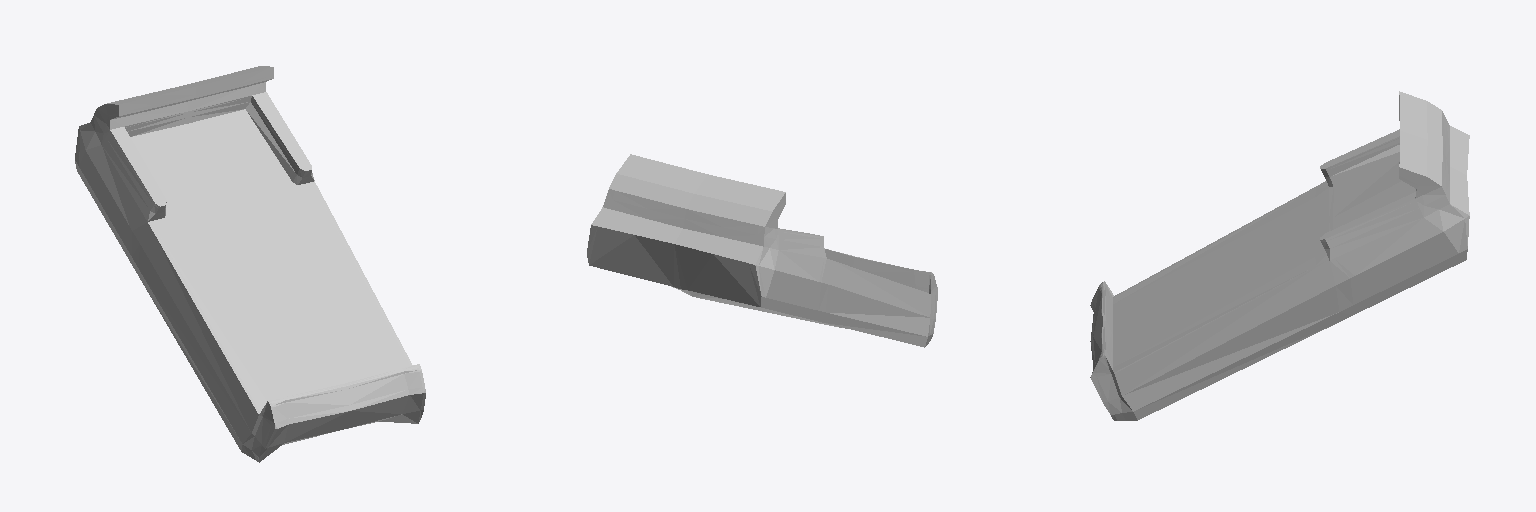
Rendered from blownUpPieces-Chassis2.obj.
3 views of the same model, side by side, from view 1: azimuth 30°, elevation 25°; view 2: azimuth 150°, elevation 25°; view 3: azimuth 270°, elevation 25° (orthographic).
Visible parts, largest first — view 1: Chassis-Lvl1-Base.006_Chassis-Lvl1_Cube.014; view 2: Chassis-Lvl1-Base.006_Chassis-Lvl1_Cube.014; view 3: Chassis-Lvl1-Base.006_Chassis-Lvl1_Cube.014.
Boxes of the visible parts, x1=… form: Chassis-Lvl1-Base.006_Chassis-Lvl1_Cube.014: x1=75, y1=66, x2=425, y2=462; Chassis-Lvl1-Base.006_Chassis-Lvl1_Cube.014: x1=587, y1=154, x2=937, y2=347; Chassis-Lvl1-Base.006_Chassis-Lvl1_Cube.014: x1=1090, y1=91, x2=1469, y2=420.
Size of the model in its own units: 2.79 by 3.81 by 5.18.